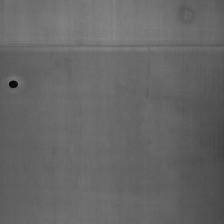punching_hole: (0, 38, 224, 55), (6, 75, 20, 92)
